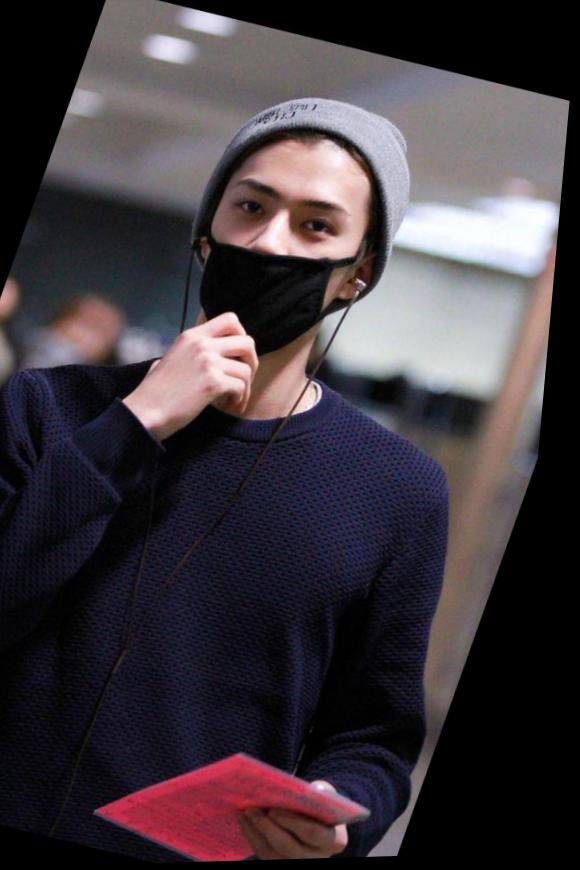WRONG: (171, 153, 385, 364)
